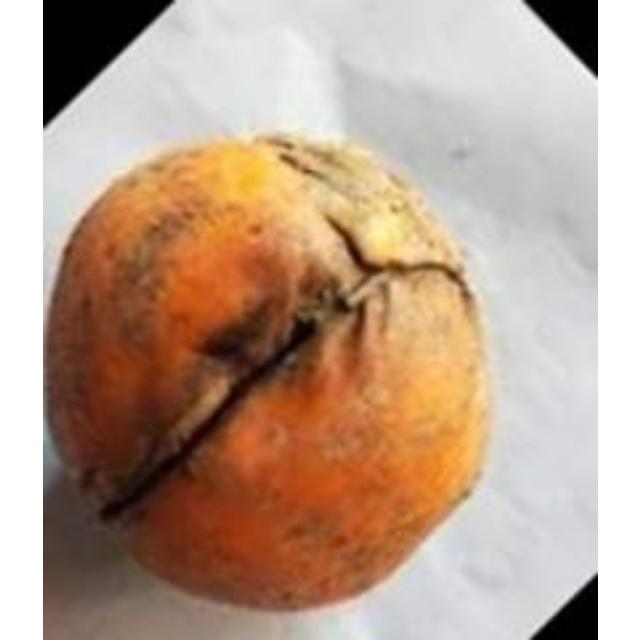damaged: (42, 130, 496, 616)
